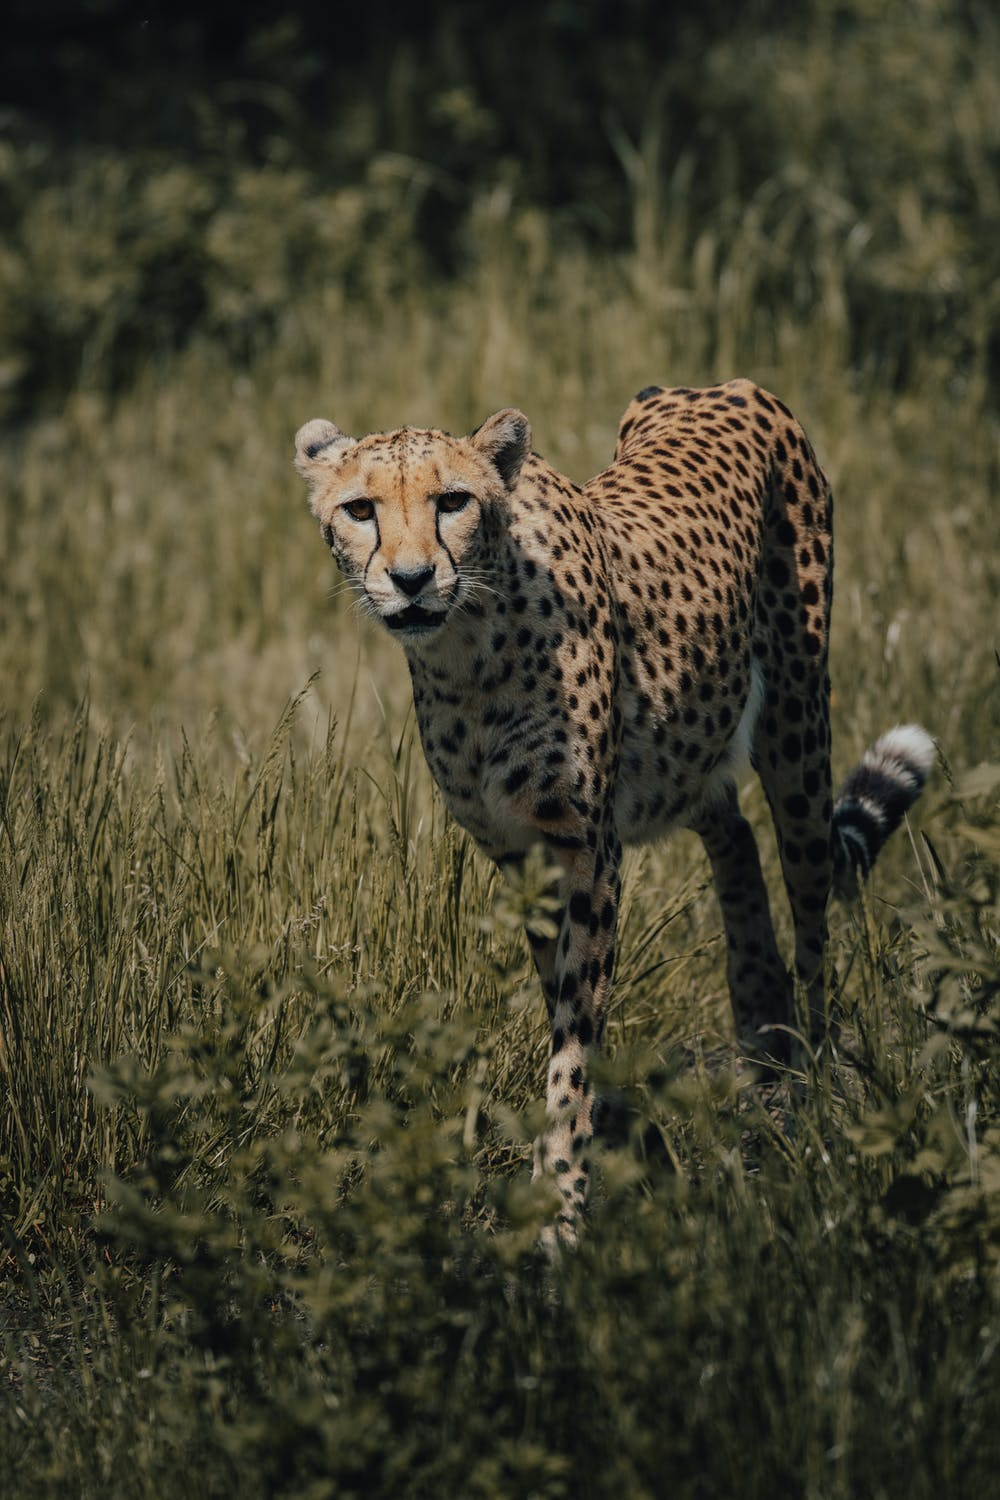cheetah: (273, 391, 548, 663)
